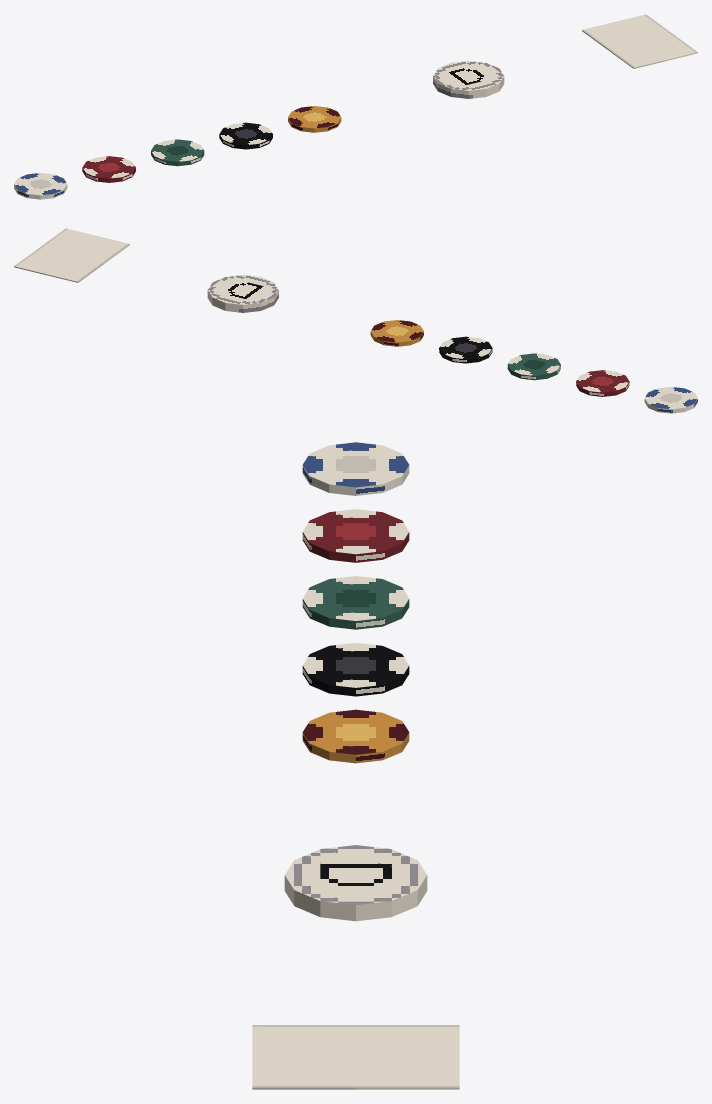
File: props.glb
The picture shows the model from 3 angles, top to bottom: view 1: azimuth 30°, elevation 25°; view 2: azimuth 150°, elevation 25°; view 3: azimuth 270°, elevation 25°; orthographic projection. The views are drawn at different scales.
Visible parts, largest first — view 1: Card, DealerButton, Chip_100, Chip_500, Chip_25, Chip_1, Chip_5; view 2: Card, DealerButton, Chip_100, Chip_500, Chip_25, Chip_1, Chip_5; view 3: Card, DealerButton, Chip_5, Chip_1, Chip_25, Chip_100, Chip_500.
Boxes of the visible parts, x1=… form: Card: x1=582, y1=14, x2=697, y2=68; DealerButton: x1=433, y1=61, x2=504, y2=98; Chip_100: x1=219, y1=122, x2=272, y2=149; Chip_500: x1=288, y1=106, x2=341, y2=132; Chip_25: x1=151, y1=139, x2=204, y2=166; Chip_1: x1=14, y1=173, x2=67, y2=199; Chip_5: x1=82, y1=156, x2=135, y2=182; Card: x1=14, y1=228, x2=129, y2=282; DealerButton: x1=207, y1=275, x2=278, y2=312; Chip_100: x1=439, y1=336, x2=492, y2=363; Chip_500: x1=370, y1=320, x2=423, y2=346; Chip_25: x1=507, y1=353, x2=560, y2=380; Chip_1: x1=644, y1=387, x2=697, y2=413; Chip_5: x1=576, y1=370, x2=629, y2=396; Card: x1=252, y1=1025, x2=459, y2=1089; DealerButton: x1=284, y1=845, x2=427, y2=921; Chip_5: x1=302, y1=509, x2=409, y2=562; Chip_1: x1=302, y1=442, x2=409, y2=495; Chip_25: x1=302, y1=576, x2=409, y2=629; Chip_100: x1=302, y1=643, x2=409, y2=696; Chip_500: x1=302, y1=709, x2=409, y2=763.
Size of the model in its own units: 0.7645 by 0.009 by 0.105.
Materials: 4 (4 with a texture image).
